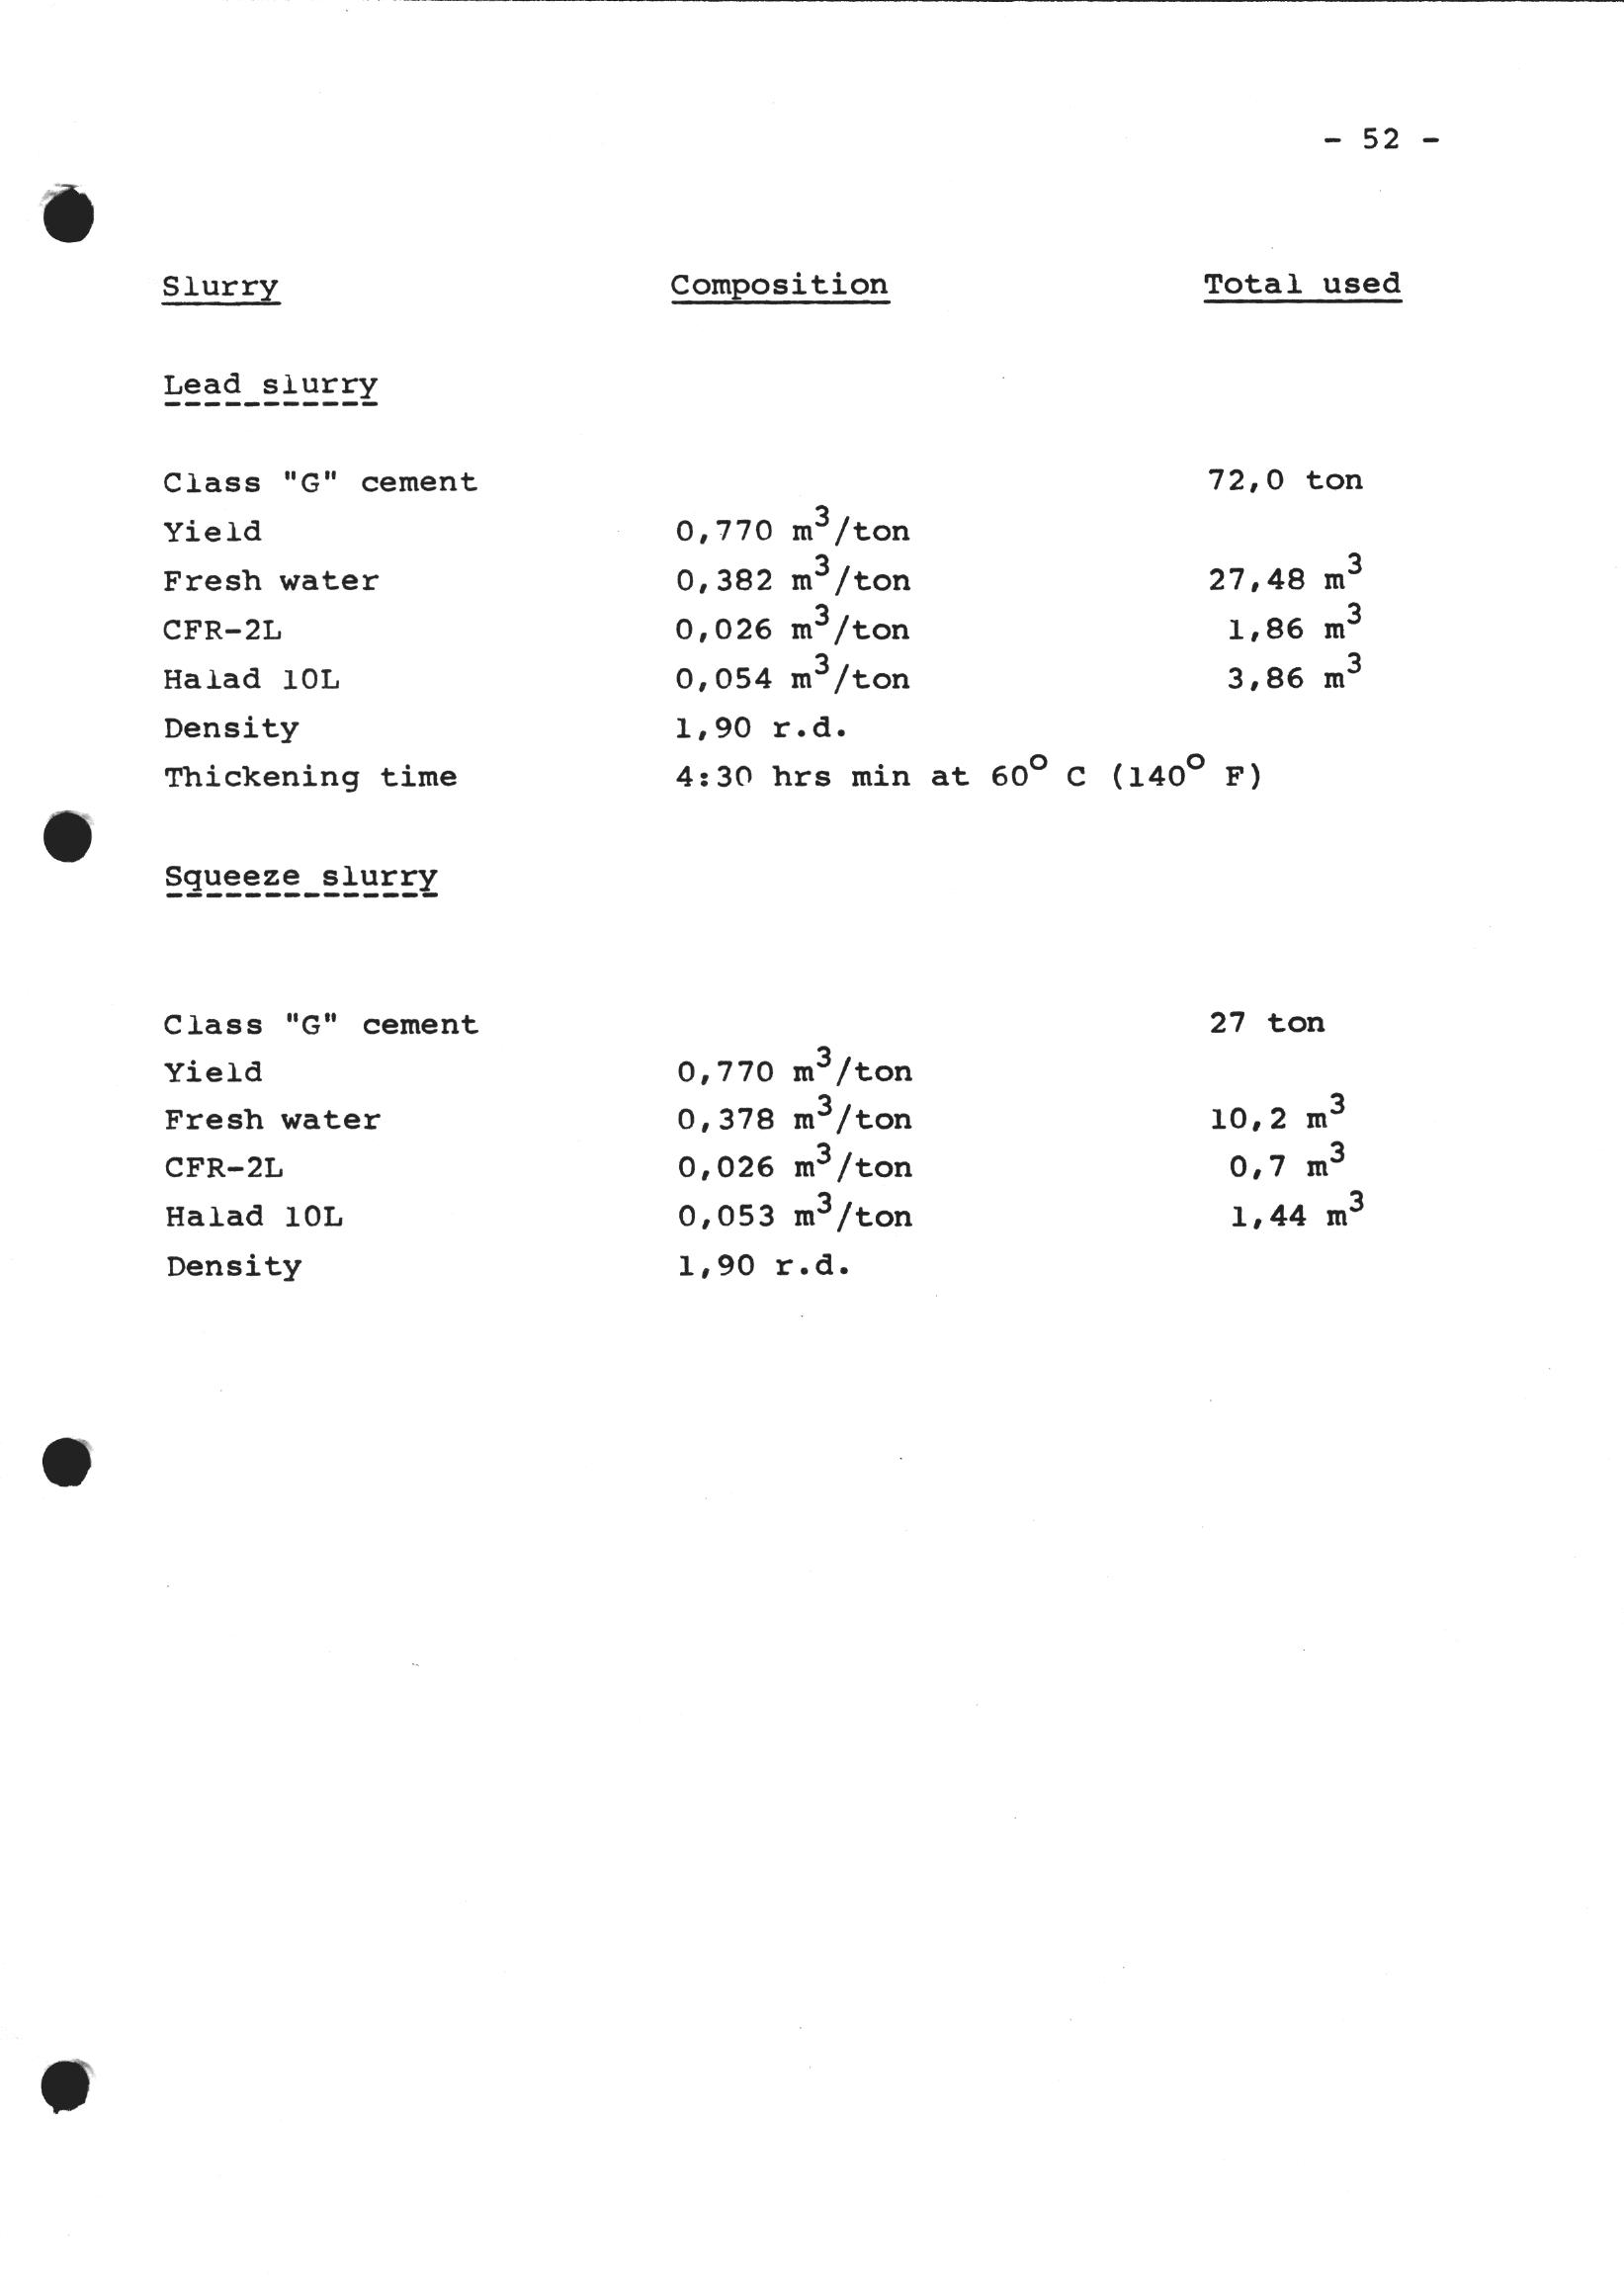table: (112, 248, 1506, 1371)
